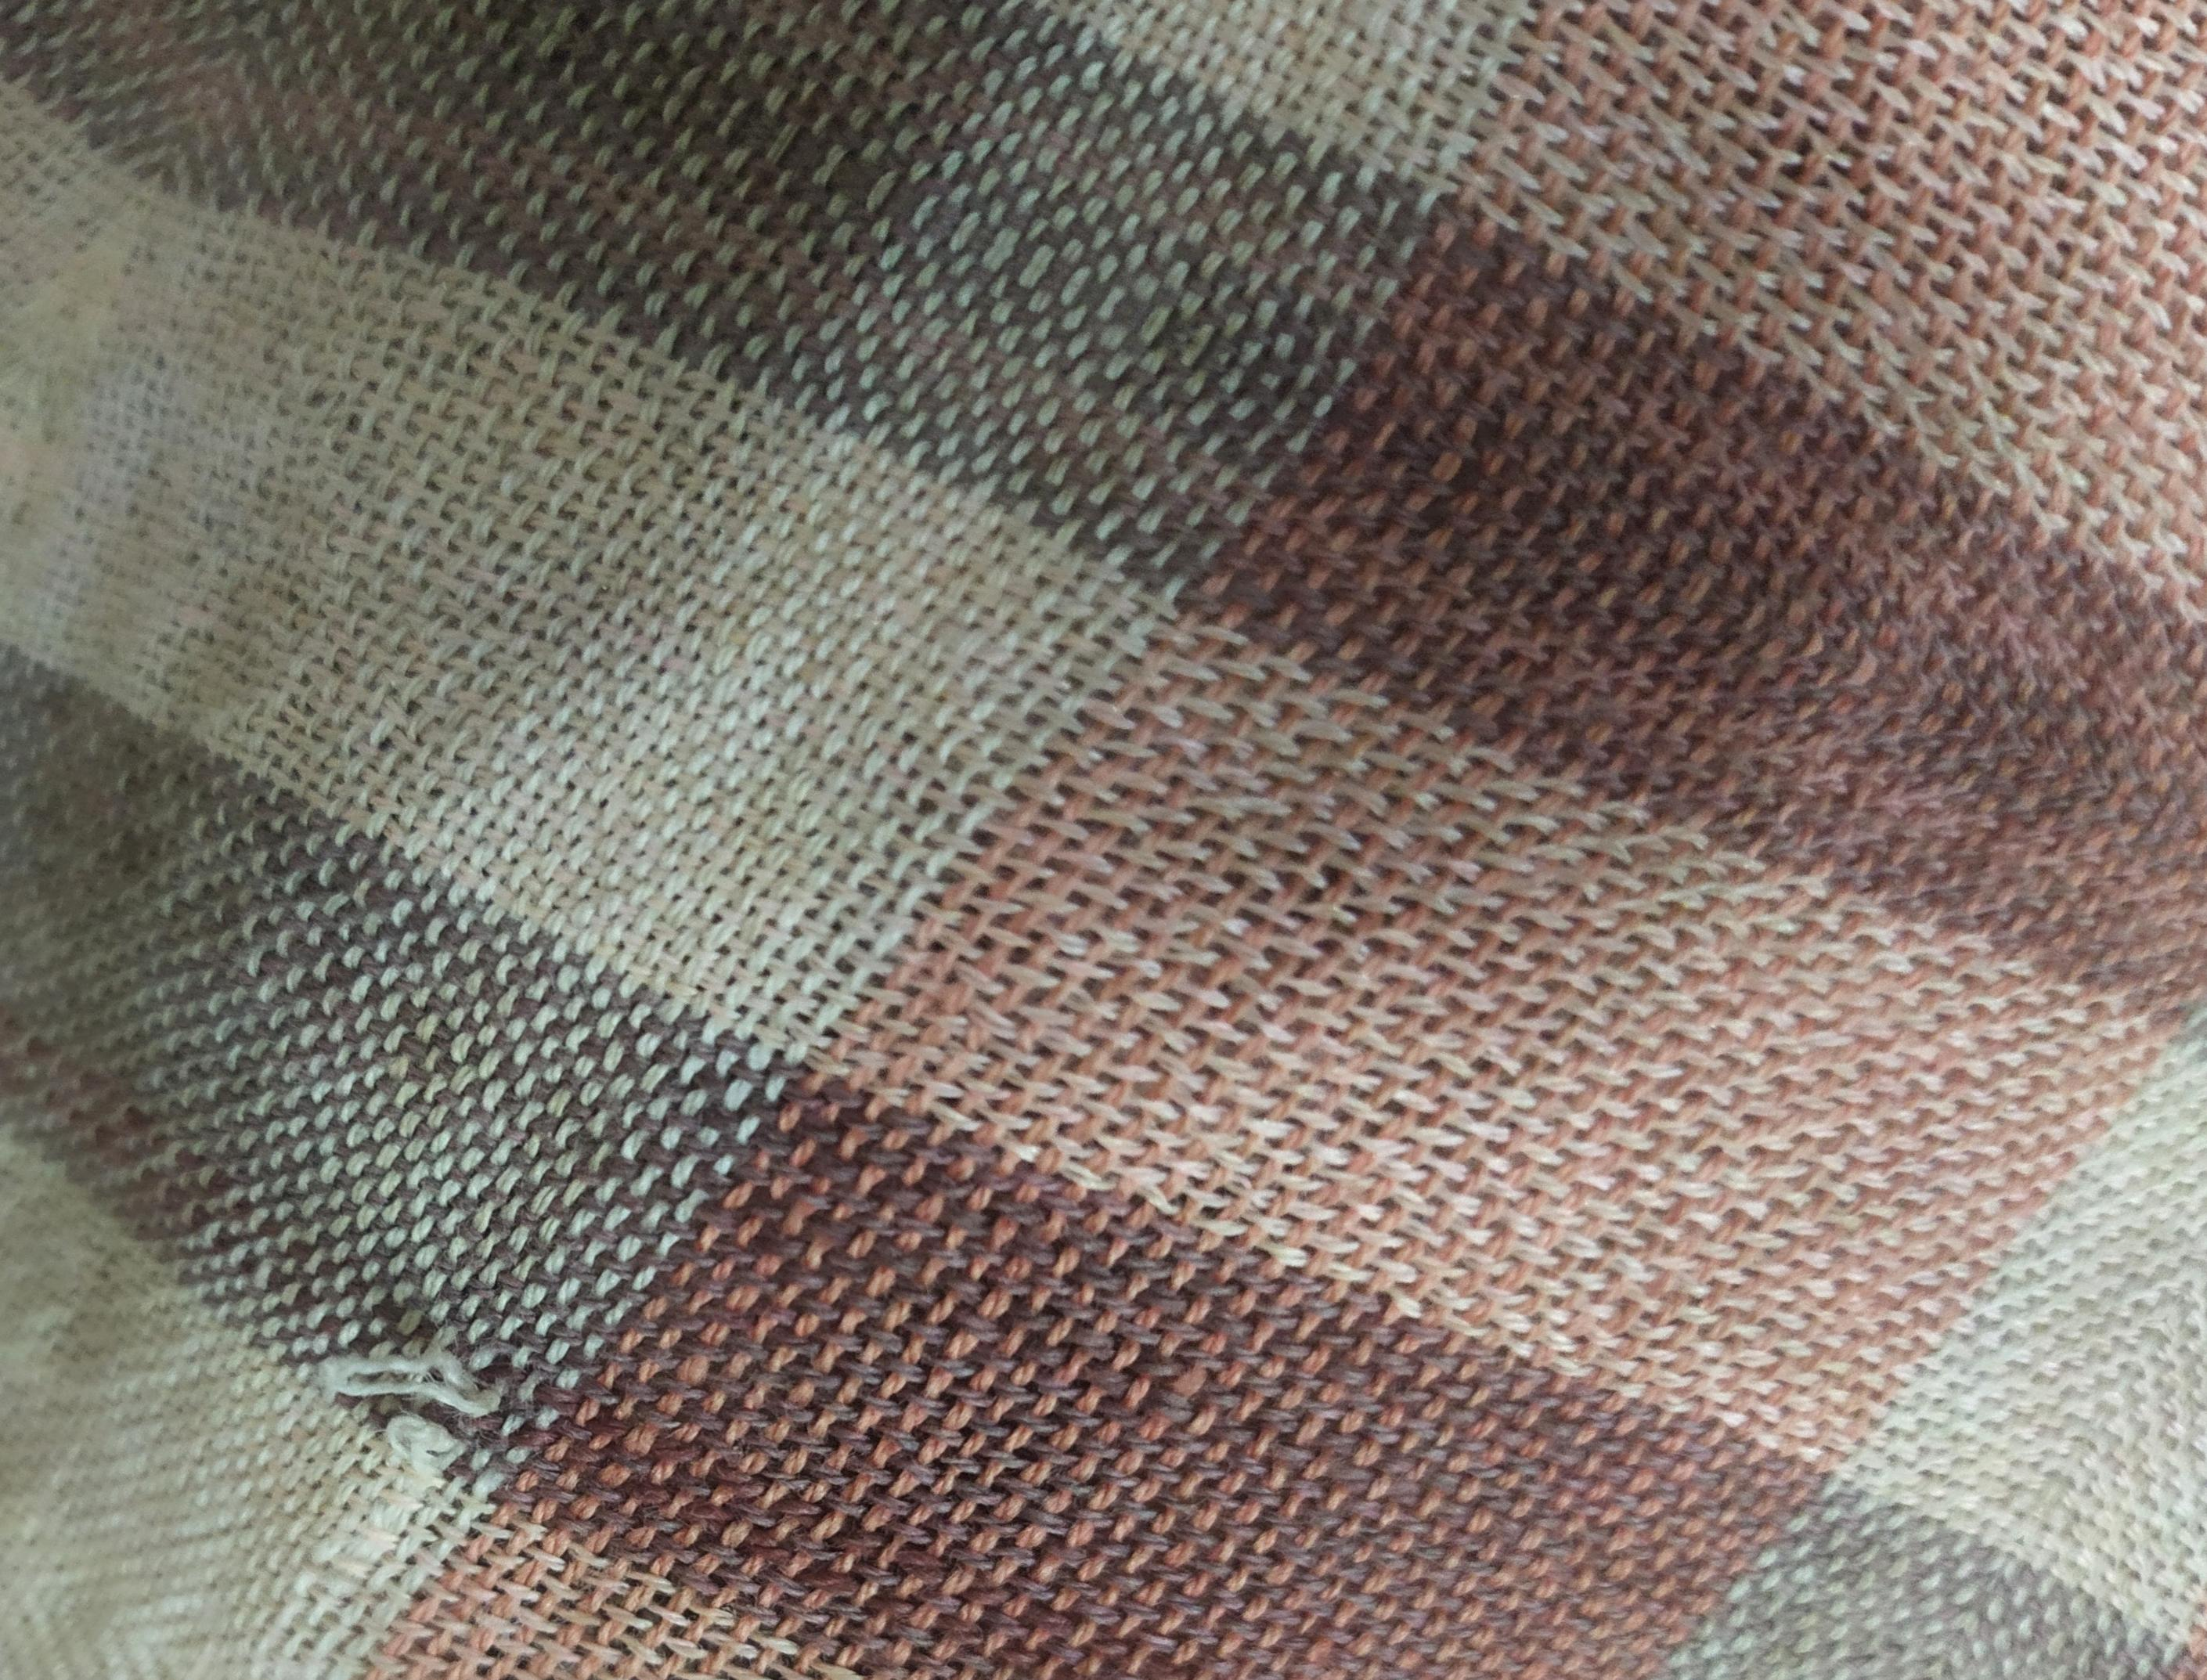snag: (302, 1309, 515, 1493)
